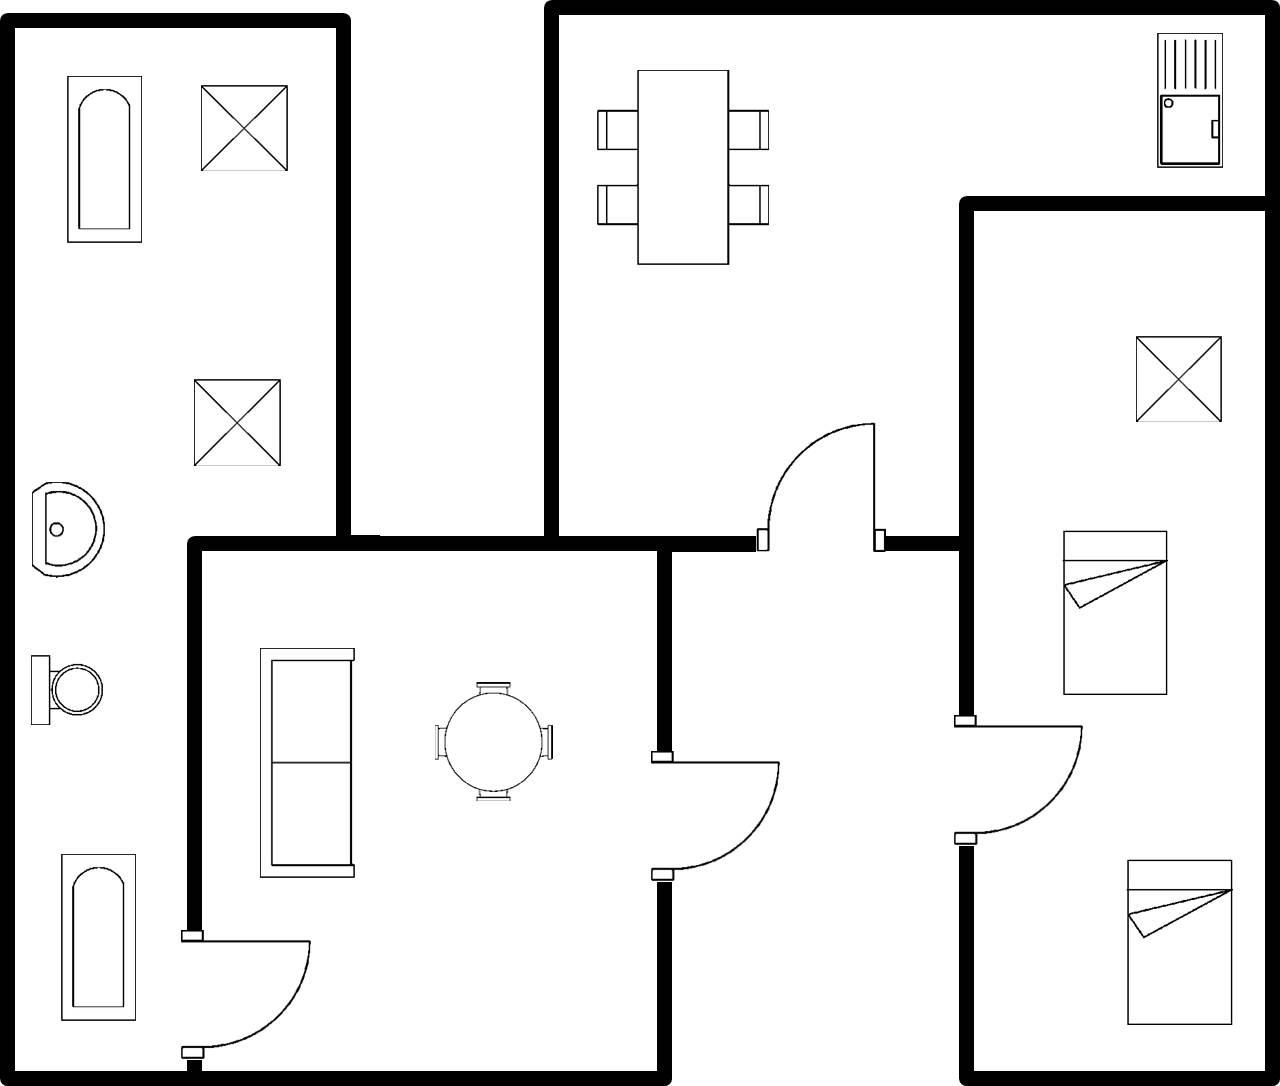bed: (1118, 851, 1240, 1034), (1054, 523, 1175, 700)
dining_table: (589, 61, 780, 269)
round_table: (427, 673, 562, 806)
sink: (1150, 22, 1229, 176)
sofa: (253, 638, 363, 887)
toilet: (20, 644, 111, 735)
tub: (56, 66, 152, 252), (52, 844, 143, 1031)
